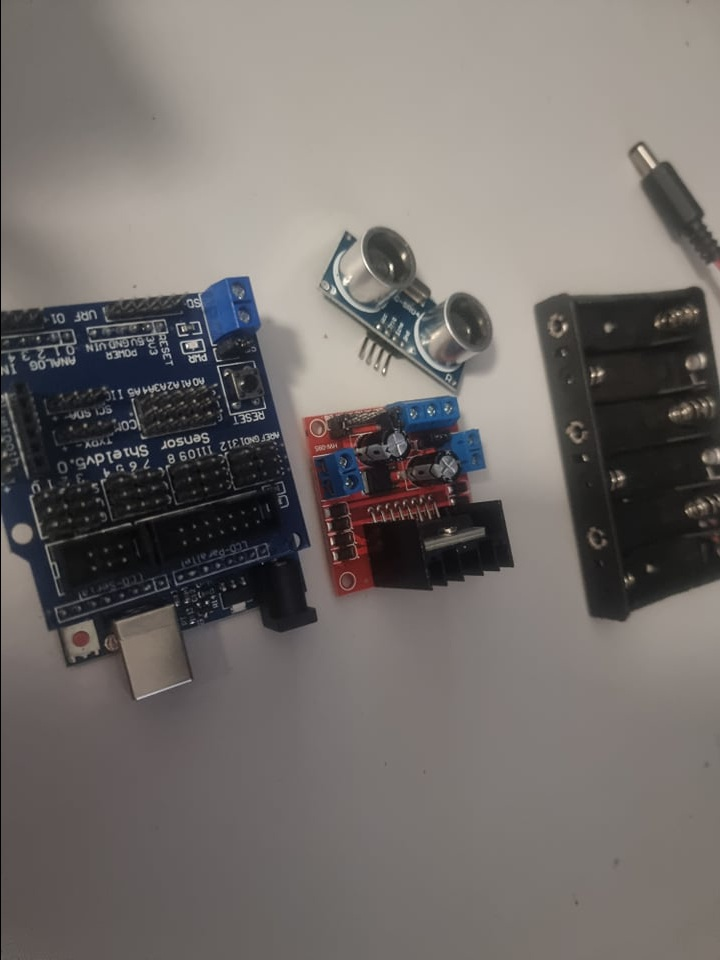5V EXPANSION: (0, 264, 304, 564)
BATTERY BOX: (528, 274, 717, 620)
MOTOR: (311, 397, 511, 611)
SENSOR: (313, 221, 500, 389)
UNO R3: (33, 574, 331, 712)
